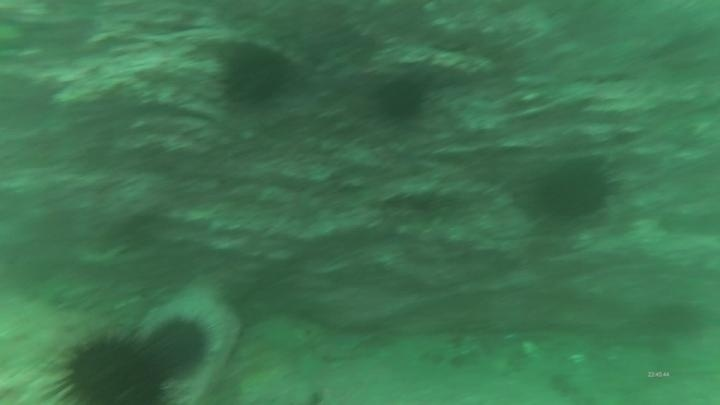echinus: (50, 329, 174, 405), (530, 154, 618, 226), (216, 41, 296, 113), (144, 312, 215, 380), (372, 73, 429, 125), (648, 298, 705, 341)
